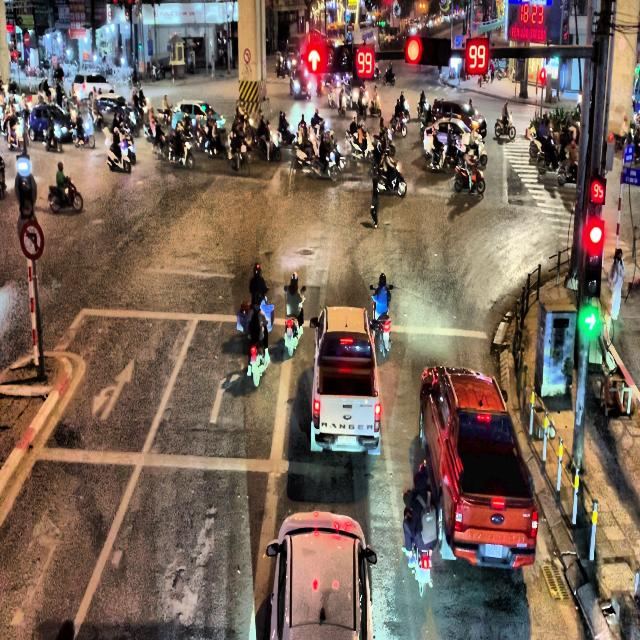lisence_plate: (333, 432, 359, 450), (483, 541, 504, 559)
